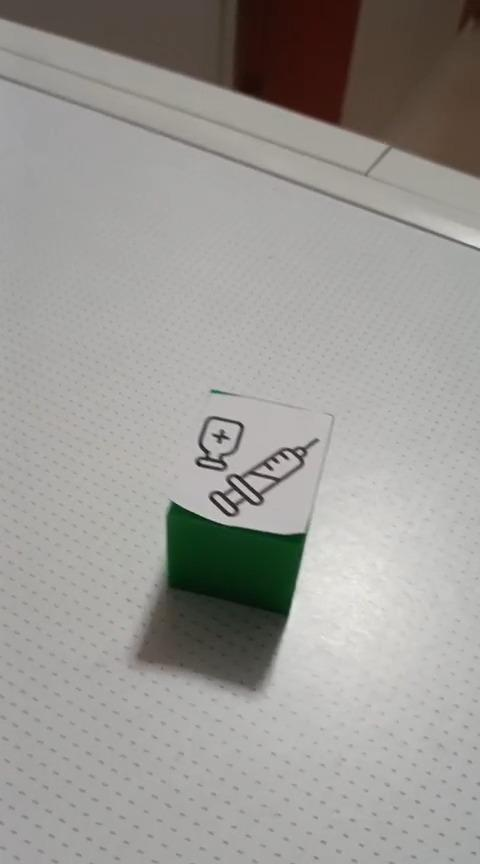antiseptic cream: (163, 387, 335, 616)
